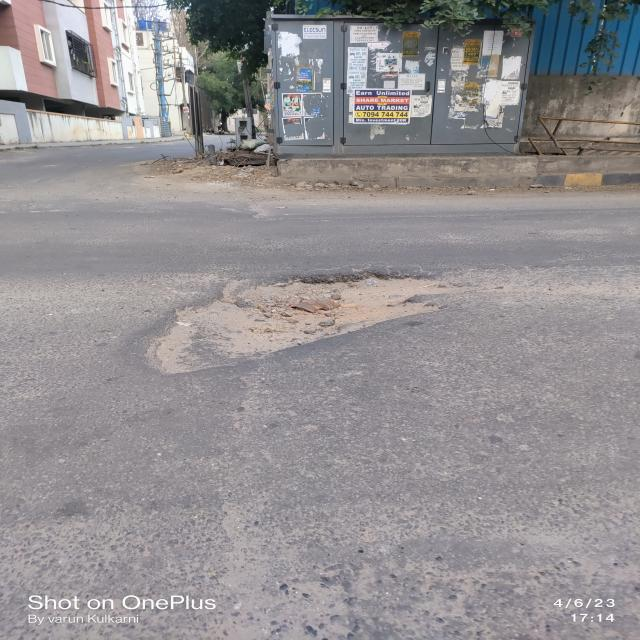potholes: (175, 270, 469, 350)
